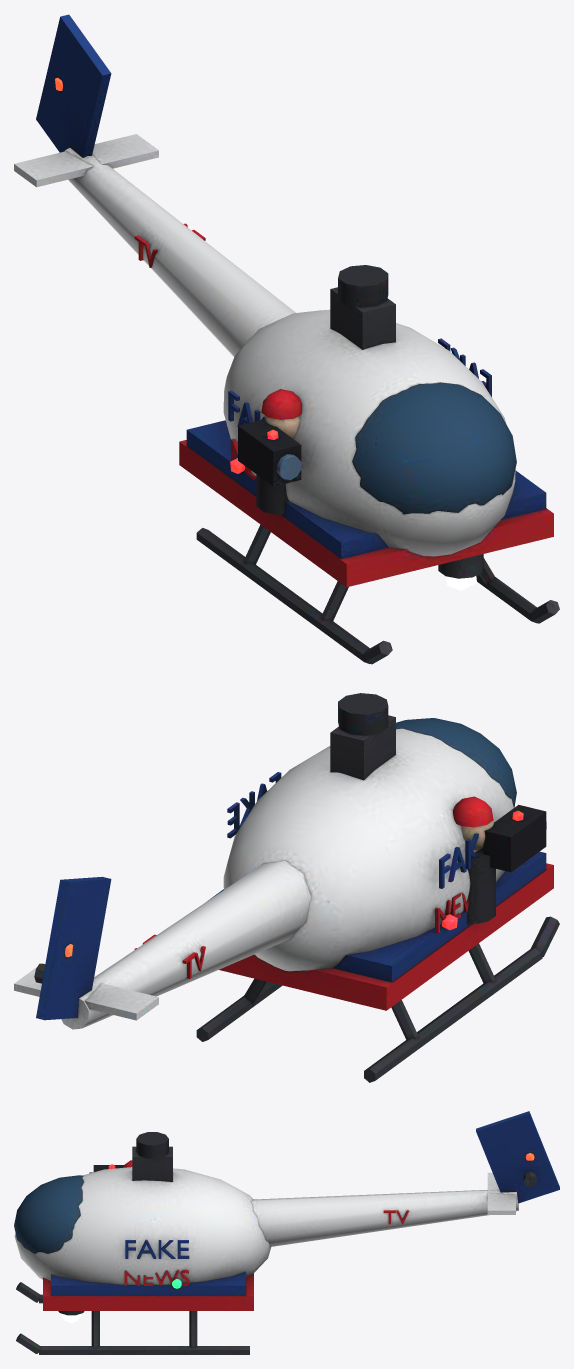
File: helicoptero.glb
3 views of the same model, one above another, from view 1: azimuth 30°, elevation 25°; view 2: azimuth 150°, elevation 25°; view 3: azimuth 270°, elevation 25° (orthographic). The views are drawn at different scales.
Parts seen in each view (by area): view 1: helicoptero; view 2: helicoptero; view 3: helicoptero.
Boxes of the visible parts, <box> form: helicoptero: <box>14,14,559,664</box>; helicoptero: <box>14,693,559,1082</box>; helicoptero: <box>14,1111,559,1354</box>.
Bounding box in the file's own units: 2.24 × 2.95 × 6.72.
1 material, 1 textured.
